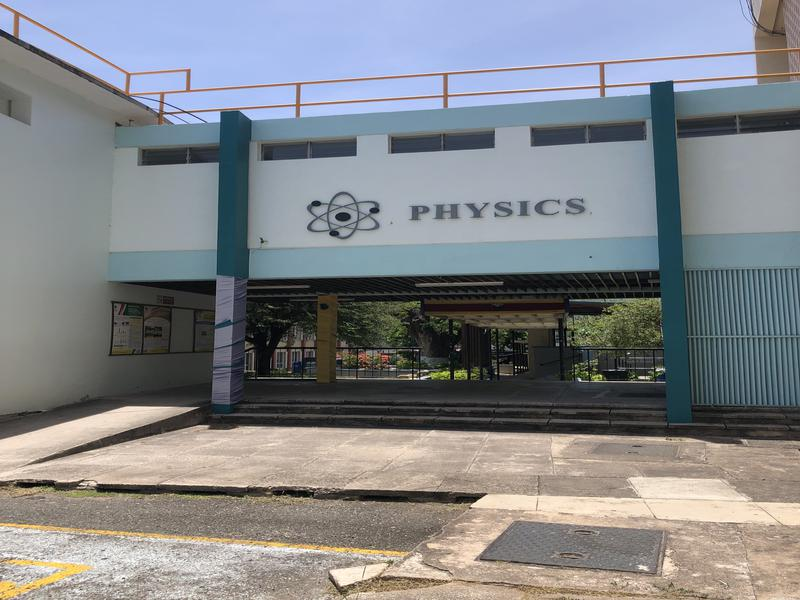18.0053657_-76.7491452_physicssign: (289, 184, 609, 230)
